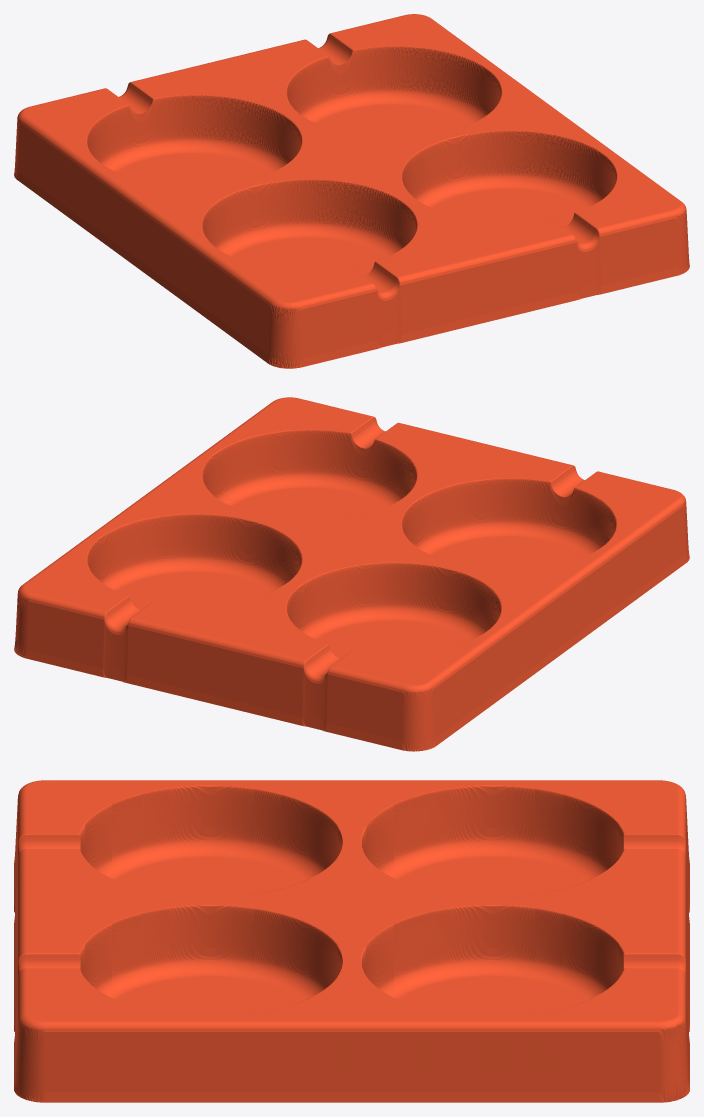
Rendered from mold.glb.
The picture shows the model from 3 angles, top to bottom: view 1: azimuth 30°, elevation 25°; view 2: azimuth 150°, elevation 25°; view 3: azimuth 270°, elevation 25°; orthographic projection. The views are drawn at different scales.
Parts seen in each view (by area): view 1: geometry_0; view 2: geometry_0; view 3: geometry_0.
Part boxes in pixels (x1=…): geometry_0: x1=14, y1=14, x2=689, y2=368; geometry_0: x1=14, y1=397, x2=689, y2=751; geometry_0: x1=14, y1=780, x2=689, y2=1102.
Bounding box in the file's own units: 0.1726 × 0.0245 × 0.1968.
